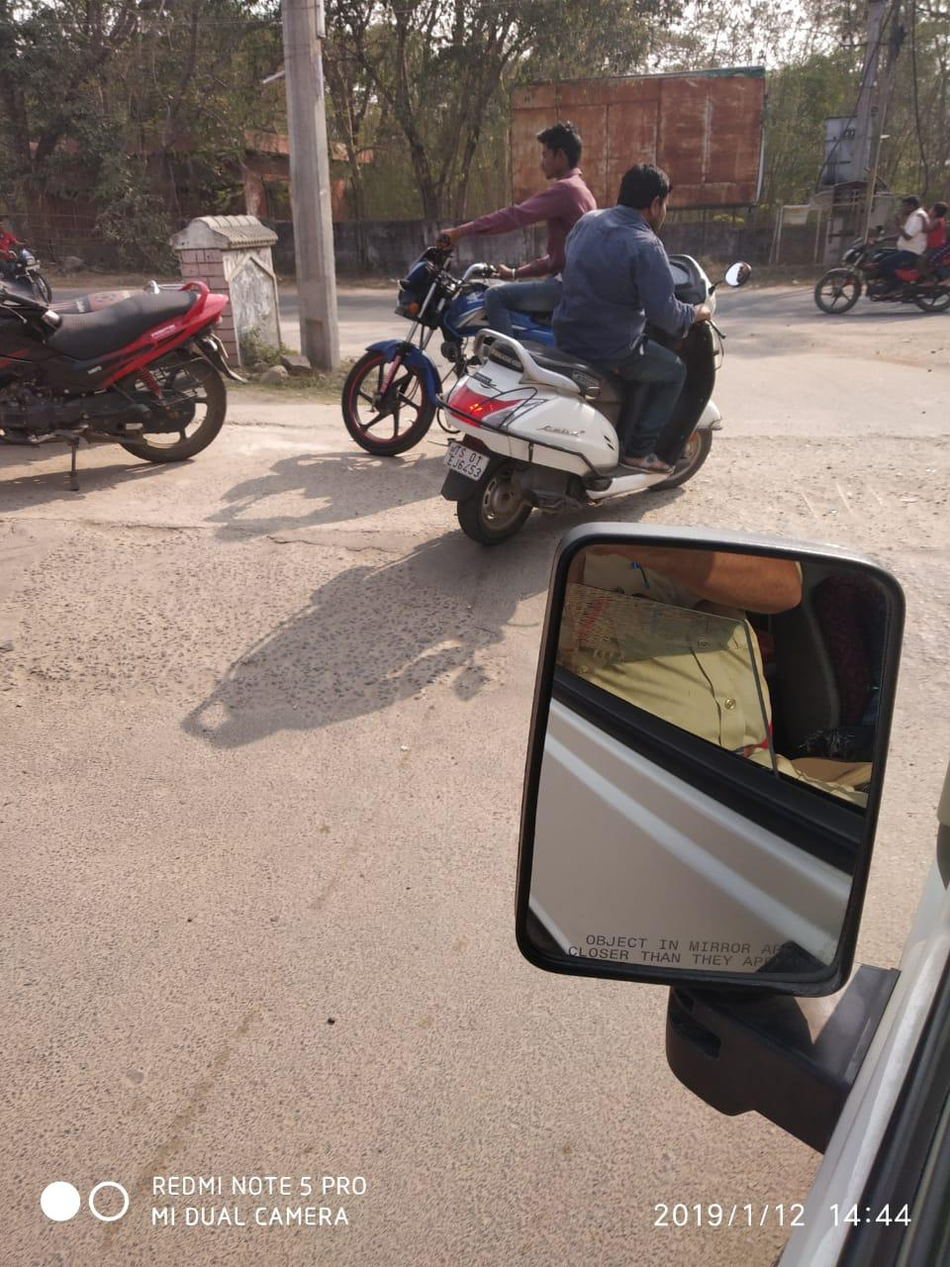plate: (437, 421, 498, 493)
